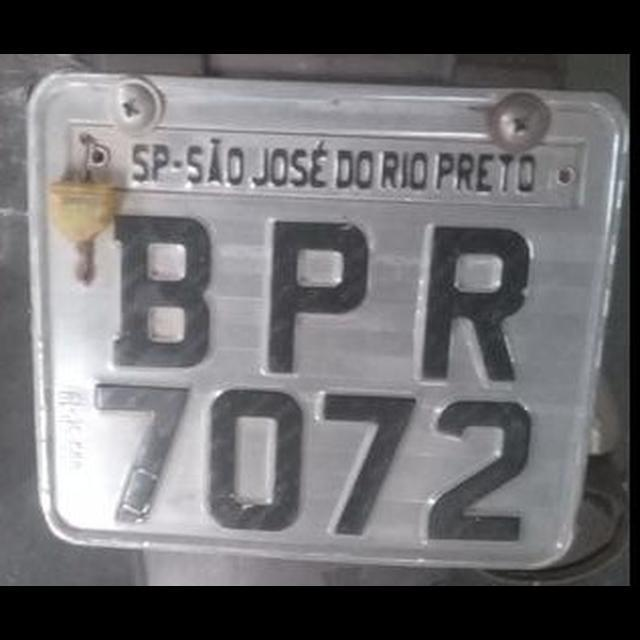Caractere: (416, 216, 534, 388), (262, 216, 382, 377), (105, 211, 217, 369), (424, 397, 538, 548), (85, 379, 197, 529), (311, 389, 415, 547), (208, 381, 306, 535)
Placa: (23, 69, 617, 575)
